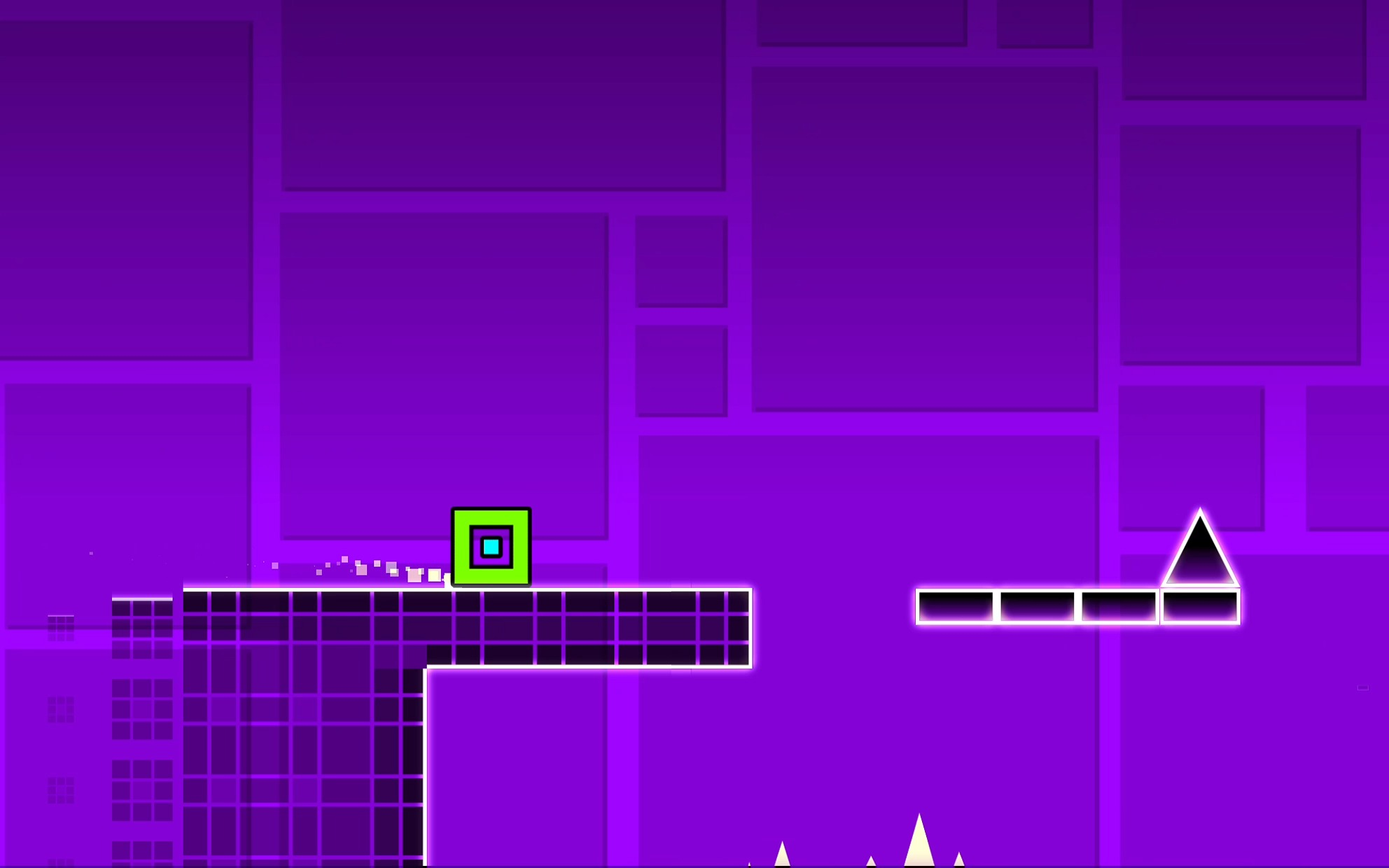Block2: (101, 595, 429, 868), (419, 589, 750, 663)
Block3: (909, 592, 1076, 624), (917, 592, 1001, 625), (1162, 590, 1238, 623), (1082, 592, 1154, 622)
Player: (450, 506, 531, 586)
Spike: (1164, 509, 1242, 594)
